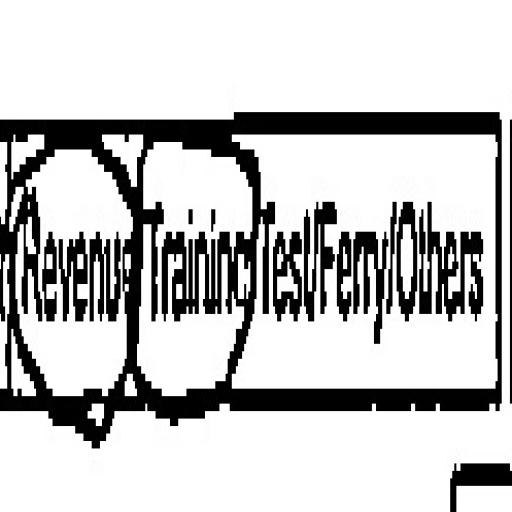check: (2, 68, 132, 490), (134, 82, 258, 512)
